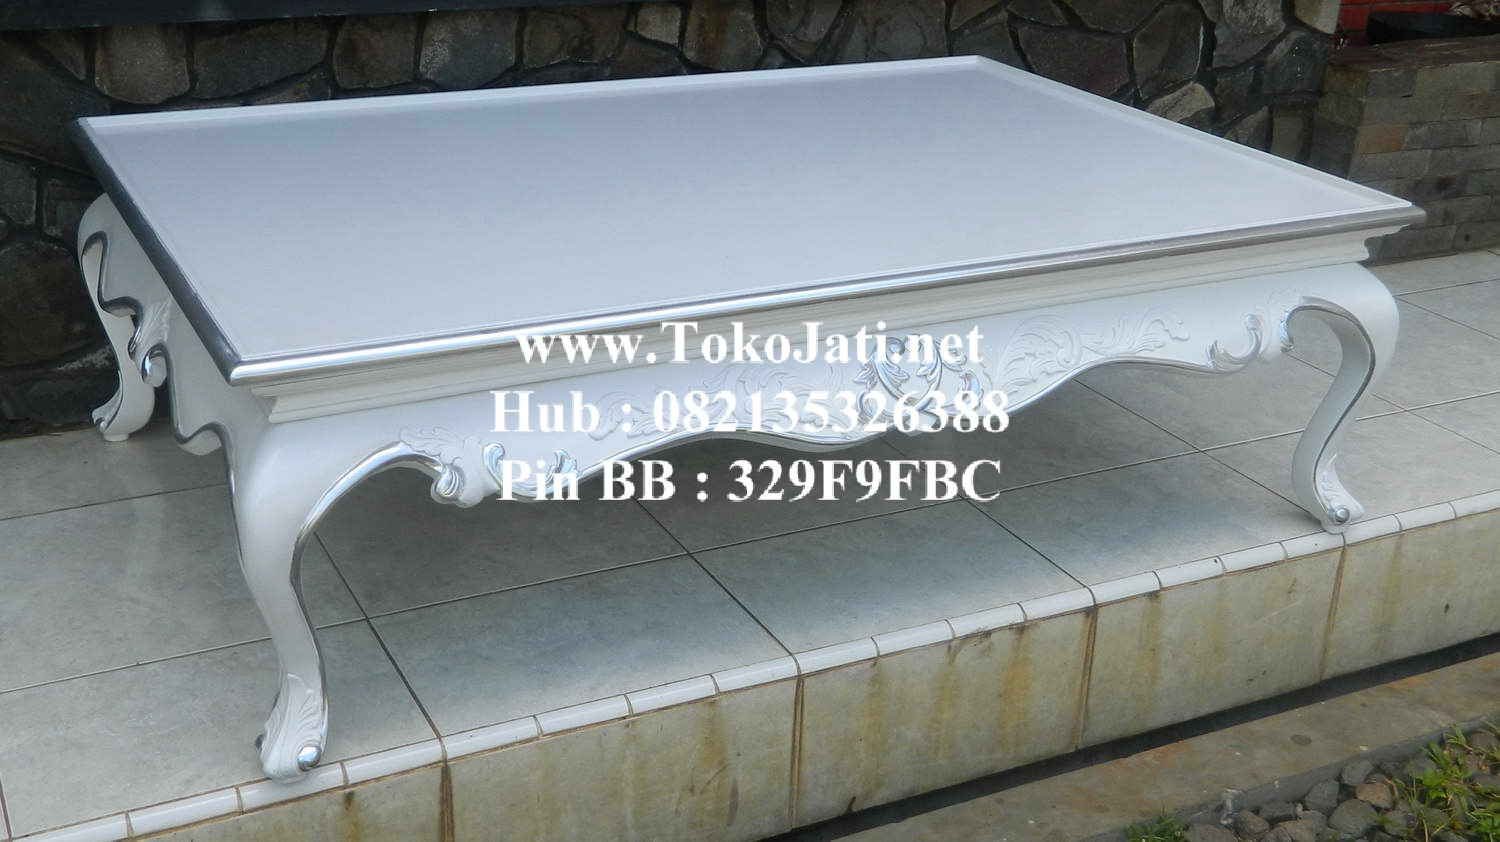Carving Table: (86, 64, 1362, 694)
